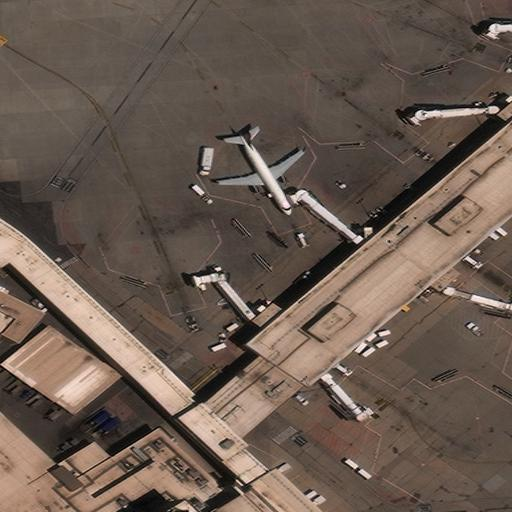Medium Civil Transport: (217, 131, 305, 215)
